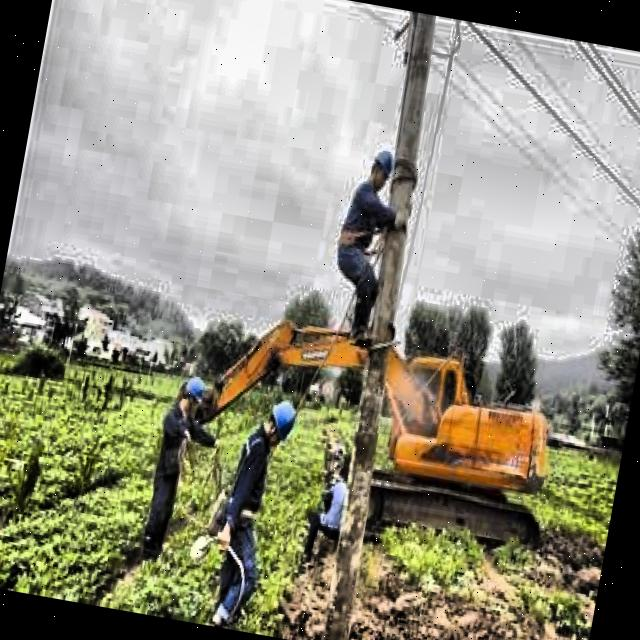helmet: (259, 394, 301, 452), (365, 139, 400, 198), (178, 370, 210, 419)
